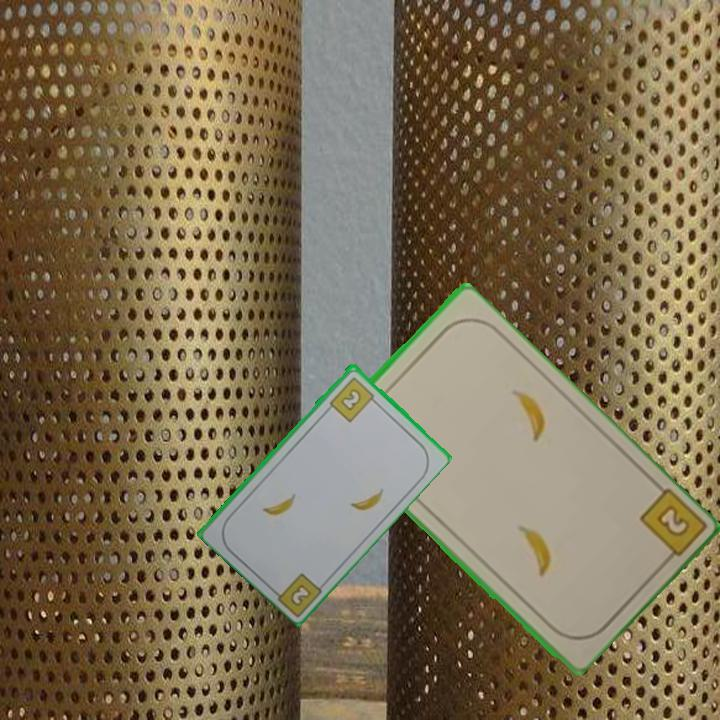2b: (635, 484, 706, 570), (326, 373, 380, 425), (289, 583, 312, 607)
